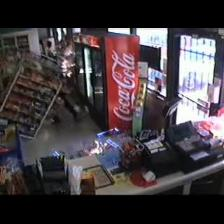person: (45, 41, 55, 59)
